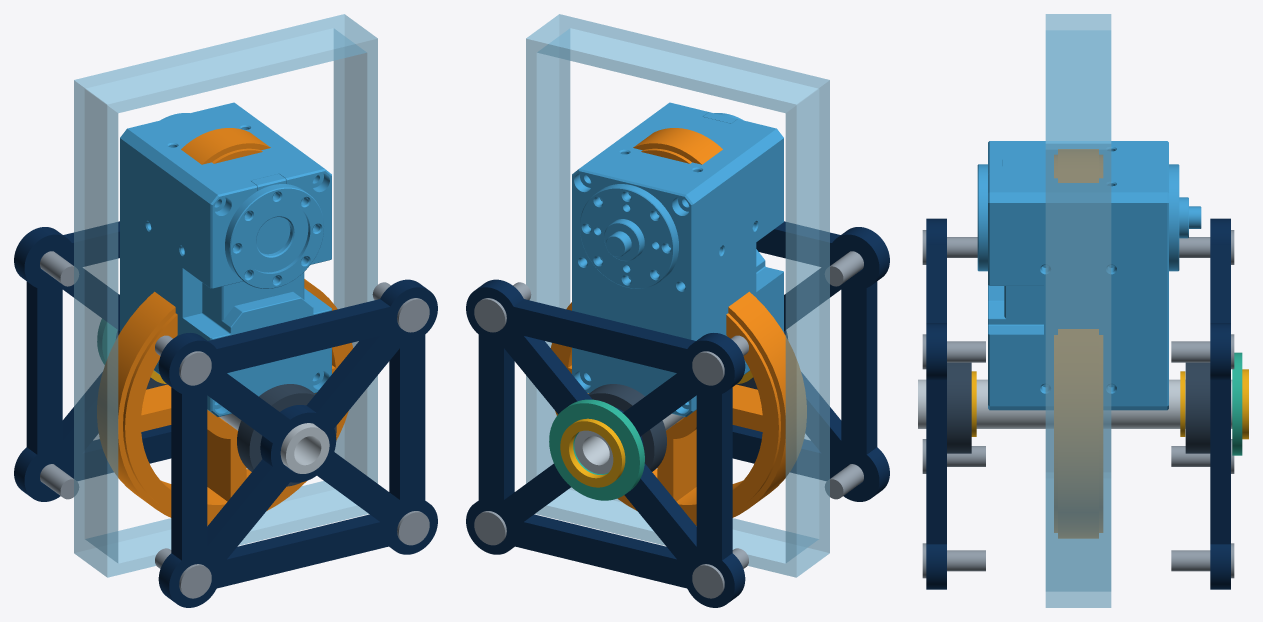
The model's file is JMF-08-LEG-REDUCED-20_assembly.glb.
The picture shows the model from 3 angles, left to right: view 1: azimuth 30°, elevation 25°; view 2: azimuth 150°, elevation 25°; view 3: azimuth 270°, elevation 25°; orthographic projection.
Visible parts, largest first — view 1: TRANSMISSION_GUARD, CARRIER_A, ACTUATOR, CARRIER_B, OUTPUT_PULLEY, TIMING_BELT, OUTPUT_SHAFT, BEARING_A, CARRIER_A_SCREW_22, CARRIER_A_SCREW_21, CARRIER_A_SCREW_12, CARRIER_A_SCREW_11 (+3 smaller); view 2: TRANSMISSION_GUARD, ACTUATOR, CARRIER_B, CARRIER_A, OUTPUT_PULLEY, TIMING_BELT, OUTPUT_ENCODER_CARRIER, OUTPUT_MAGNET_HUB, BEARING_B, OUTPUT_SHAFT, CARRIER_B_SCREW_22, CARRIER_B_SCREW_21 (+4 smaller); view 3: ACTUATOR, TRANSMISSION_GUARD, TIMING_BELT, CARRIER_A, CARRIER_B, OUTPUT_SHAFT, BEARING_B, BEARING_A, OUTPUT_PULLEY, OUTPUT_ENCODER_CARRIER, CARRIER_A_SCREW_11, CARRIER_A_SCREW_12 (+7 smaller).
Part boxes in pixels (bbox=[...]): TRANSMISSION_GUARD: bbox=[74, 14, 377, 577]; CARRIER_A: bbox=[158, 279, 437, 607]; ACTUATOR: bbox=[120, 102, 331, 416]; CARRIER_B: bbox=[14, 221, 171, 501]; OUTPUT_PULLEY: bbox=[123, 287, 349, 521]; TIMING_BELT: bbox=[97, 128, 352, 525]; OUTPUT_SHAFT: bbox=[219, 413, 329, 473]; BEARING_A: bbox=[237, 384, 336, 486]; CARRIER_A_SCREW_22: bbox=[155, 335, 211, 385]; CARRIER_A_SCREW_21: bbox=[155, 548, 211, 598]; CARRIER_A_SCREW_12: bbox=[372, 282, 429, 332]; CARRIER_A_SCREW_11: bbox=[397, 511, 429, 545]; TRANSMISSION_GUARD: bbox=[526, 14, 829, 577]; ACTUATOR: bbox=[572, 102, 783, 416]; CARRIER_B: bbox=[466, 279, 745, 607]; CARRIER_A: bbox=[732, 221, 889, 501]; OUTPUT_PULLEY: bbox=[554, 313, 780, 521]; TIMING_BELT: bbox=[551, 128, 806, 525]; OUTPUT_ENCODER_CARRIER: bbox=[549, 399, 644, 500]; OUTPUT_MAGNET_HUB: bbox=[560, 418, 625, 487]; BEARING_B: bbox=[588, 384, 666, 471]; OUTPUT_SHAFT: bbox=[574, 413, 684, 473]; CARRIER_B_SCREW_22: bbox=[692, 335, 748, 385]; CARRIER_B_SCREW_21: bbox=[692, 548, 748, 598]; ACTUATOR: bbox=[977, 141, 1201, 410]; TRANSMISSION_GUARD: bbox=[1045, 14, 1111, 607]; TIMING_BELT: bbox=[1058, 149, 1098, 538]; CARRIER_A: bbox=[926, 218, 946, 589]; CARRIER_B: bbox=[1210, 218, 1230, 589]; OUTPUT_SHAFT: bbox=[918, 379, 1232, 428]; BEARING_B: bbox=[1185, 362, 1210, 453]; BEARING_A: bbox=[947, 362, 971, 453]; OUTPUT_PULLEY: bbox=[1054, 335, 1102, 532]; OUTPUT_ENCODER_CARRIER: bbox=[1232, 352, 1242, 455]; CARRIER_A_SCREW_11: bbox=[922, 543, 985, 578]; CARRIER_A_SCREW_12: bbox=[922, 334, 985, 369].
Bounding box in the file's own units: 74.52 × 124 × 80.4.
